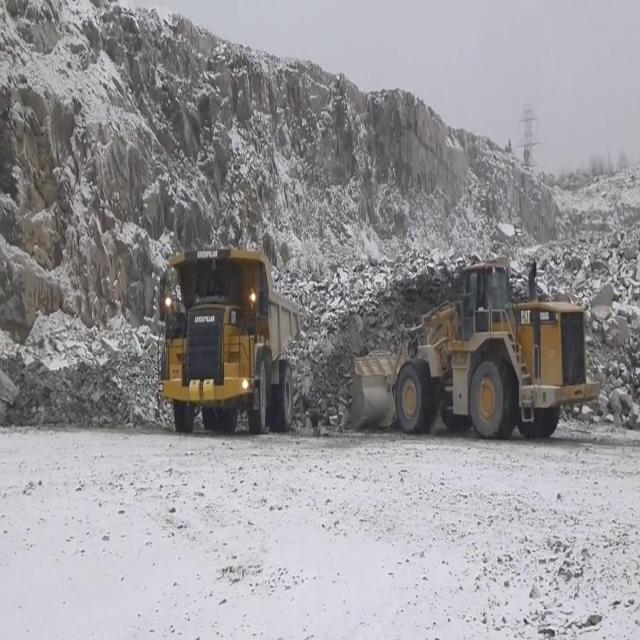Dump Truck: (153, 250, 303, 433)
Loader: (351, 261, 603, 441)
